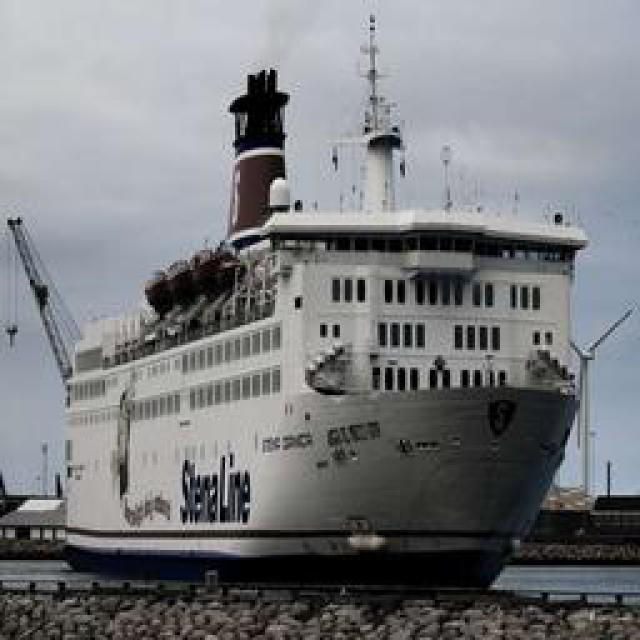Ship: (41, 39, 594, 592)
